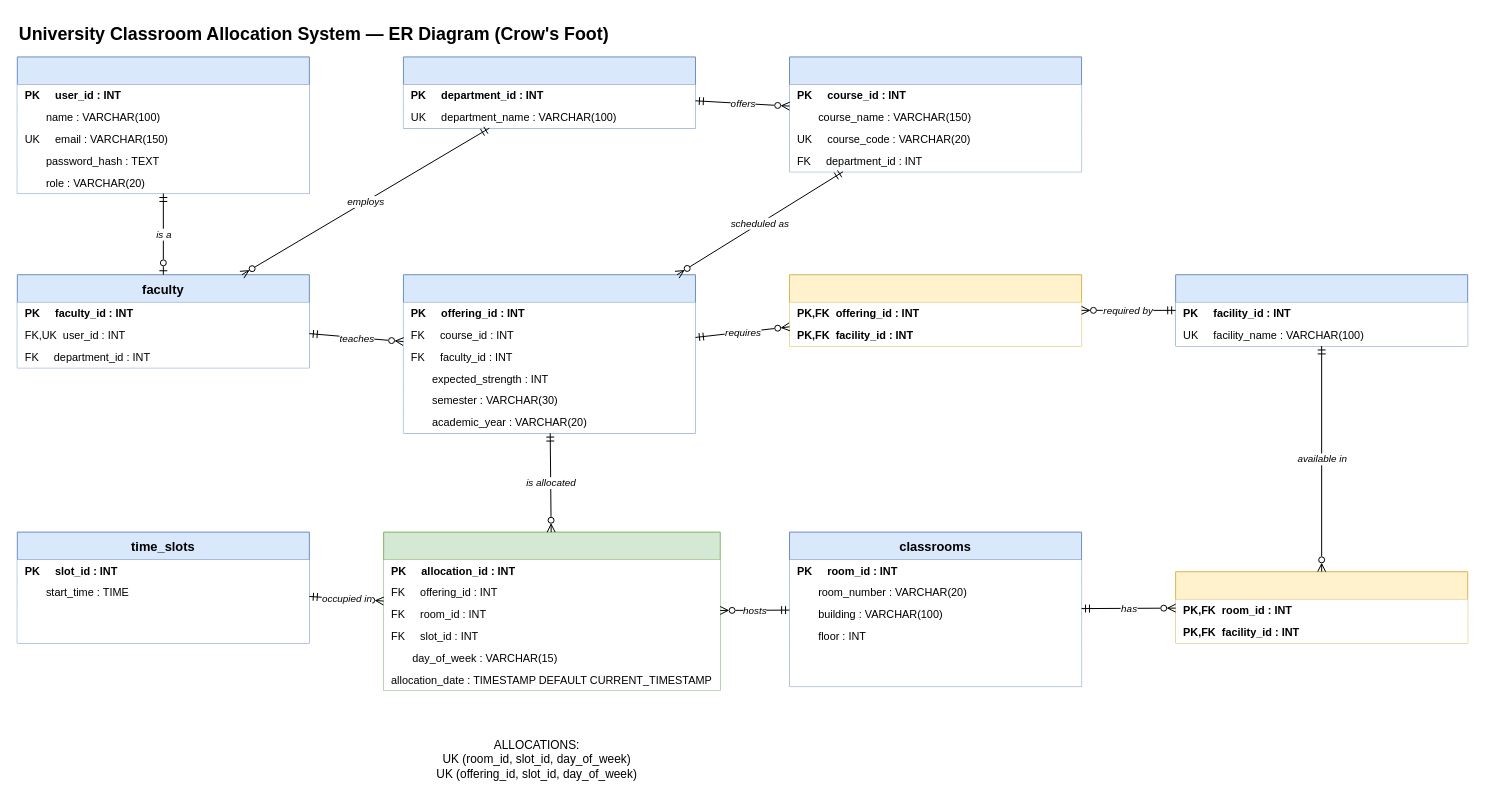
Some shapes in this 1485 by 806 pixel diagram are drawn without their labels. The shapes that lost their labels are listed below. From the top down, each one's box as (x1, y1, x2, y2) in pixels, then its label:
(402, 56, 695, 128): departments
(16, 56, 309, 194): users
(789, 56, 1082, 172): courses
(789, 274, 1082, 346): offering_required_facilities
(1175, 274, 1468, 346): facilities
(402, 274, 695, 433): course_offerings
(17, 603, 309, 643): end_time : TIME UK (start_time, end_time)
(383, 531, 720, 691): allocations
(1175, 571, 1468, 643): classroom_facilities
(789, 646, 1081, 686): capacity : INT UK (building, room_number)
